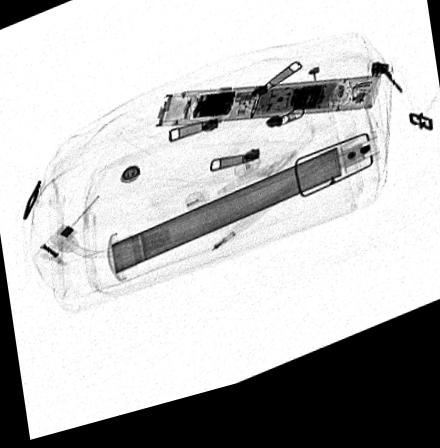Baton: (154, 95, 381, 137)
